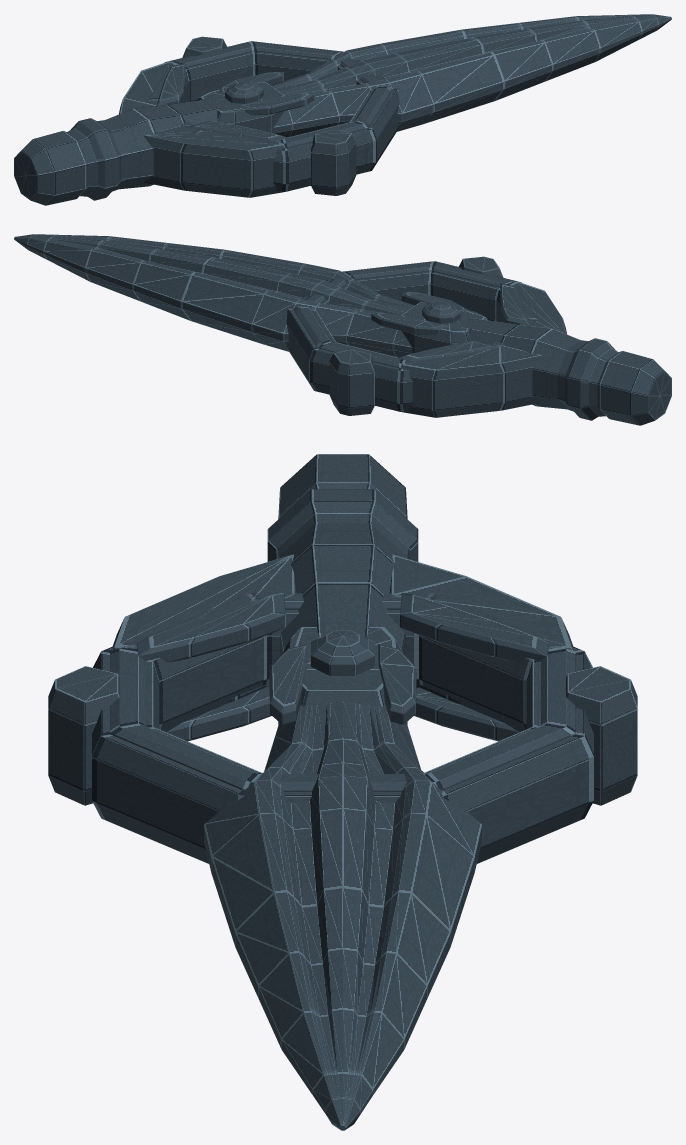
The model's file is bench_jindan_jinwu_spear_2.obj.
The picture shows the model from 3 angles, top to bottom: view 1: azimuth 30°, elevation 25°; view 2: azimuth 150°, elevation 25°; view 3: azimuth 270°, elevation 25°; orthographic projection. The views are drawn at different scales.
Visible parts, largest first — view 1: geometry; view 2: geometry; view 3: geometry.
Part boxes in pixels (<box>): geometry: <box>14,14,671,205</box>; geometry: <box>14,234,671,425</box>; geometry: <box>48,454,637,1130</box>.
Size of the model in its own units: 0.75 by 0.0846 by 0.2967.
